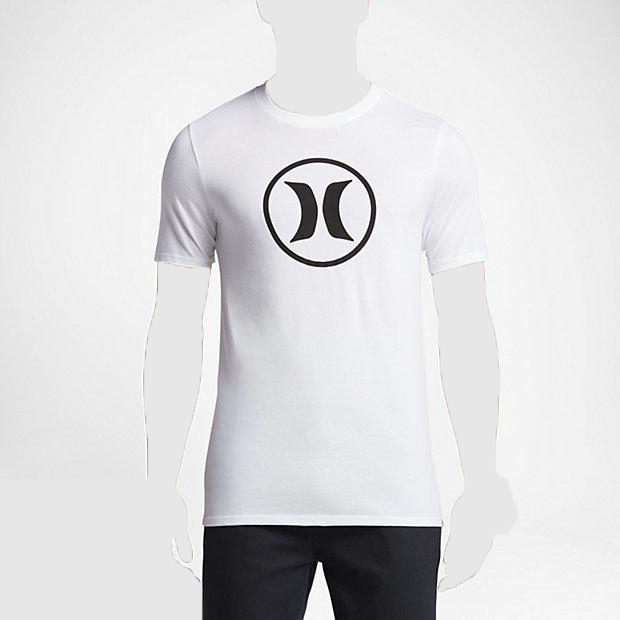teeshirt: (149, 78, 497, 534)
